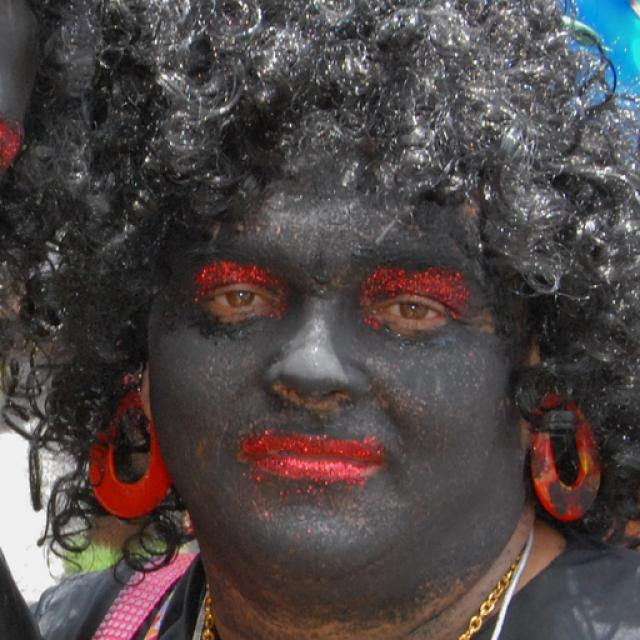neutral: (134, 132, 530, 588)
